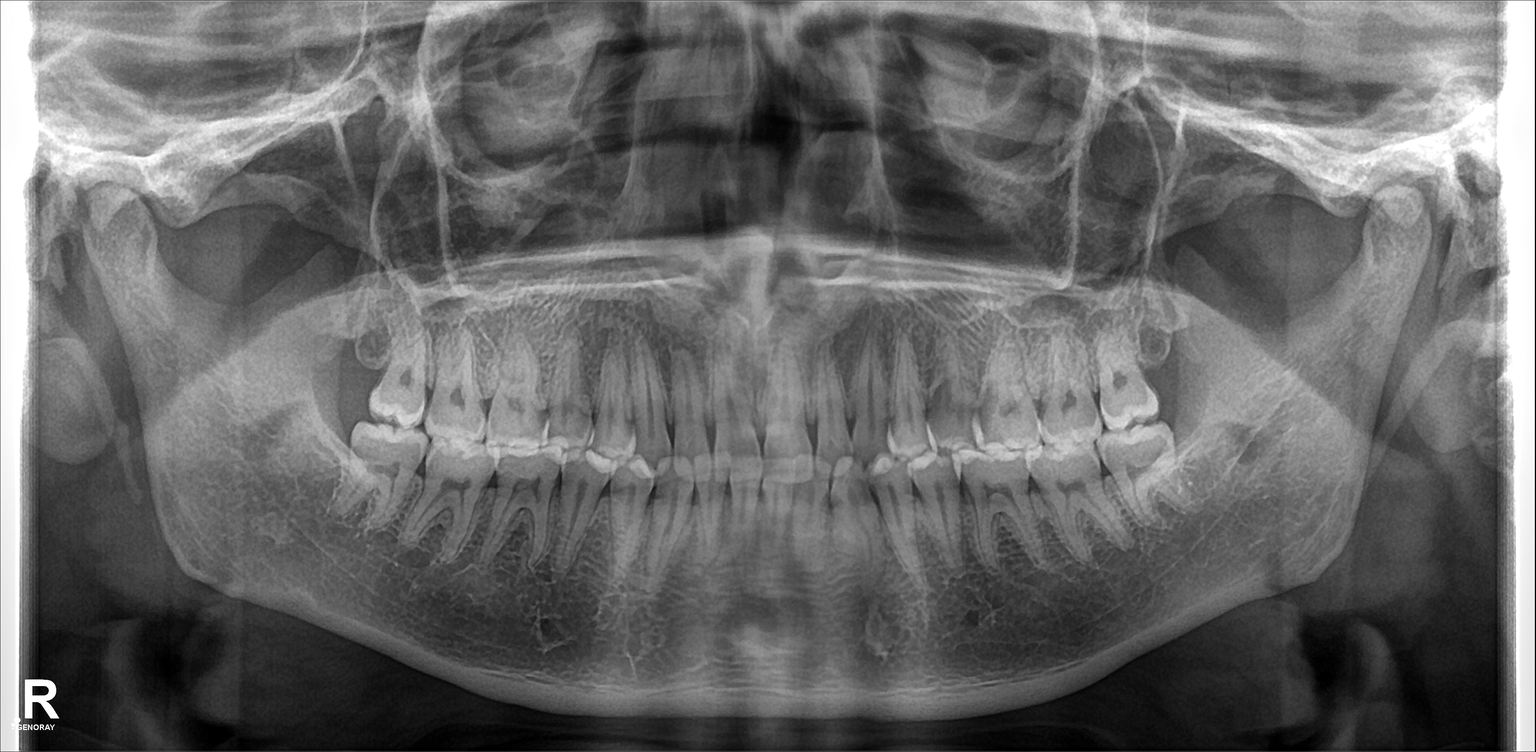Missing Tooth: (1140, 305, 1192, 407), (330, 305, 380, 402)
